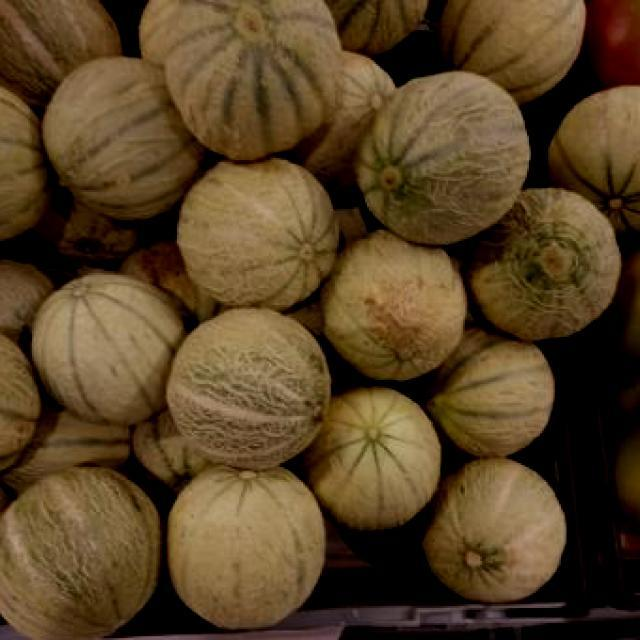Cantaloupe: (358, 72, 530, 246), (164, 0, 339, 162), (1, 470, 166, 640), (160, 468, 324, 630), (166, 307, 330, 465), (175, 158, 337, 309), (40, 56, 188, 220), (28, 271, 186, 422), (466, 188, 620, 338), (420, 462, 563, 602), (304, 388, 440, 531), (424, 328, 552, 458), (434, 0, 584, 102), (546, 86, 640, 238)
